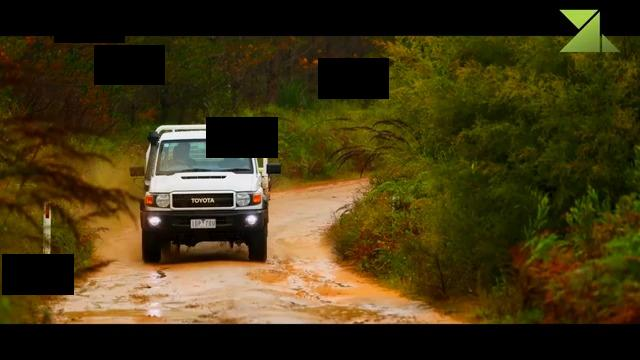MIL_HMMWV: (130, 122, 283, 265)
